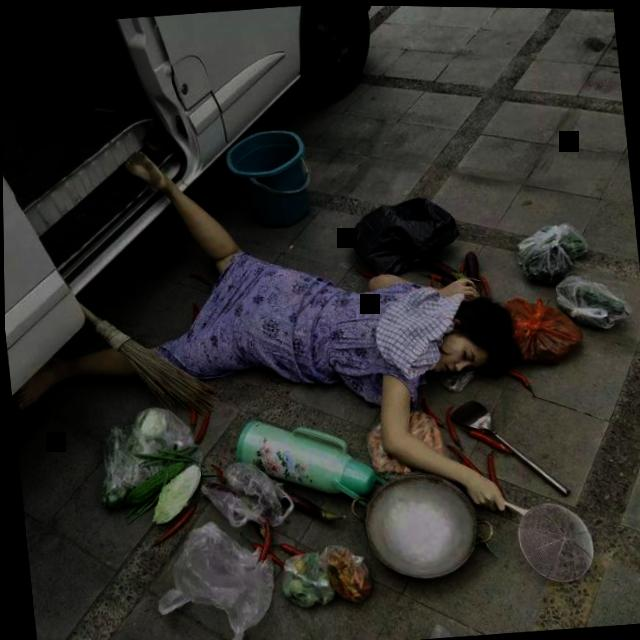Fall-Detected: (1, 88, 579, 576)
